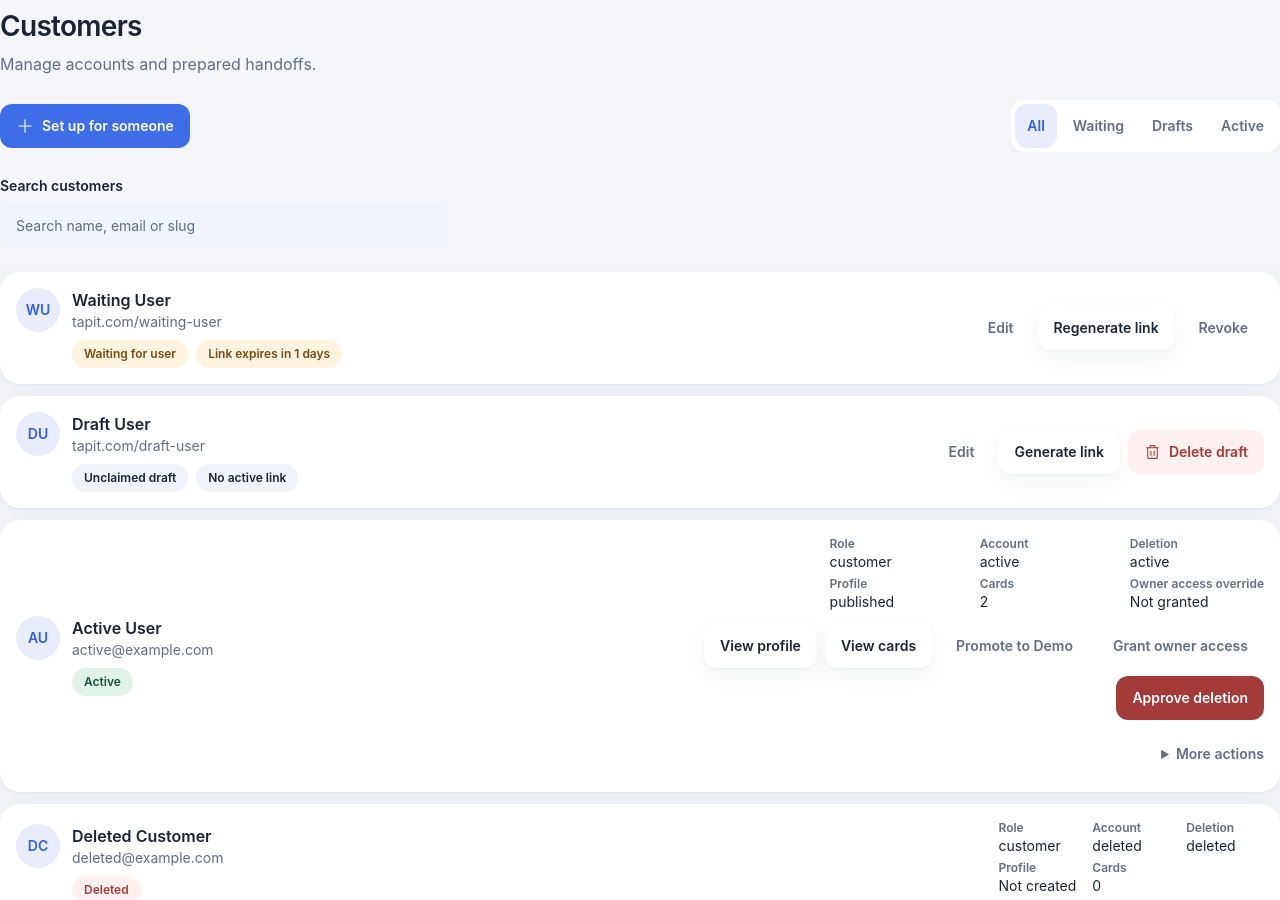
Scenario: prepared admin interactions › renders one searchable list containing active customers and their legacy actions
The width and height of the screenshot is (1280, 900).
expect the number of search fields is 1: met, box [0,204,448,248]
expect the text "Active User" is shown once: met, box [72,618,162,638]
Click the heading "More actions" at (1220, 754), box [1176,745,1264,762]
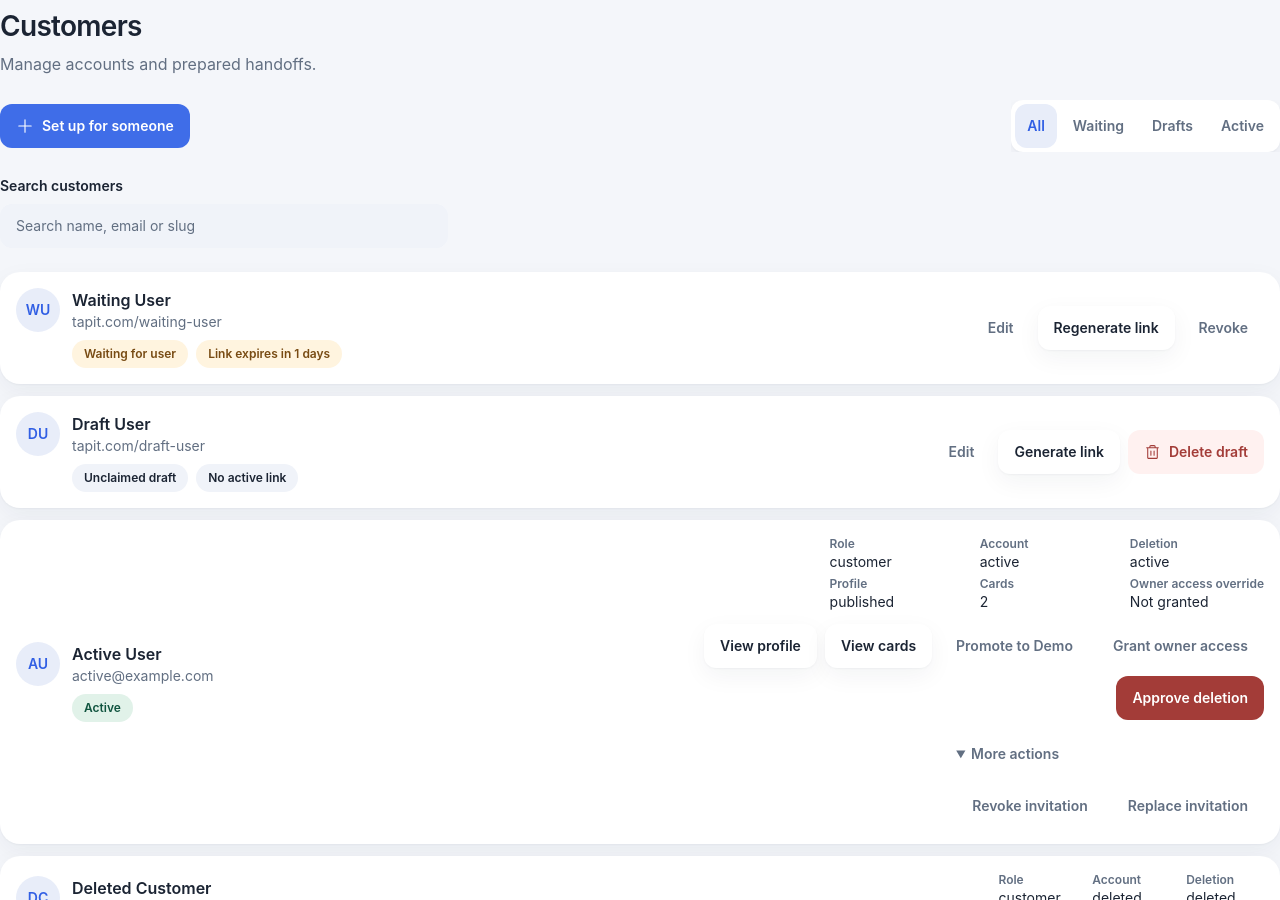
expect the button "Promote to Demo" is shown: met, box [940,624,1089,668]
expect the button "Approve deletion" is shown: met, box [1116,676,1264,720]
Click the button "Active" at (1242, 126), box [1209,104,1276,148]
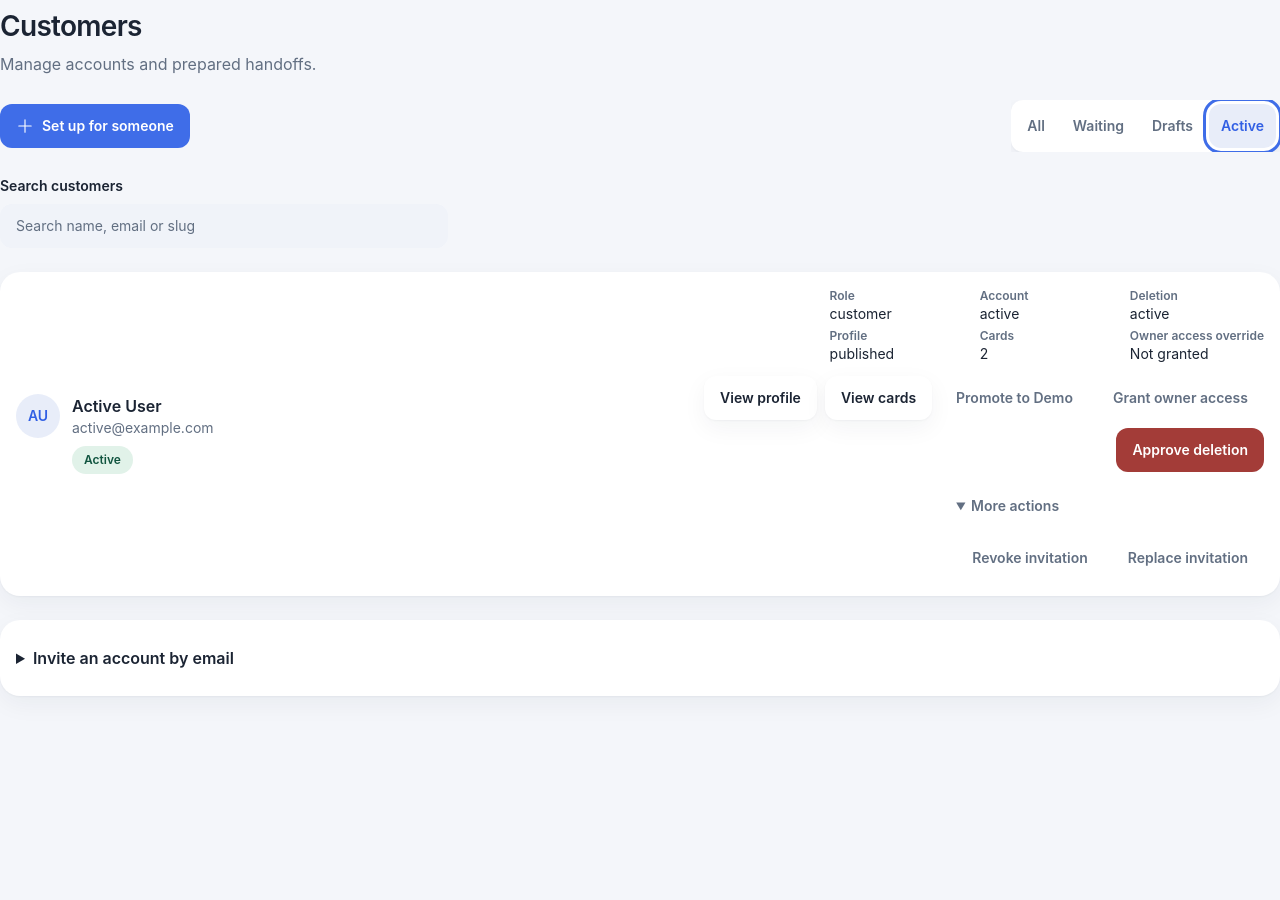
expect the text "Active User" is shown: met, box [72,396,162,416]
expect the text "Waiting User" is gone: met
